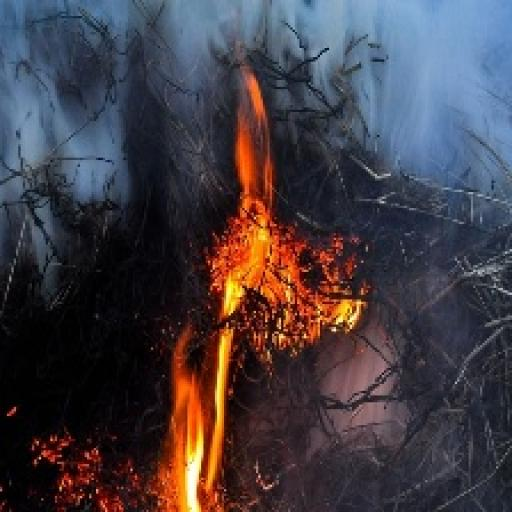fire and smoke: (171, 64, 368, 510)
